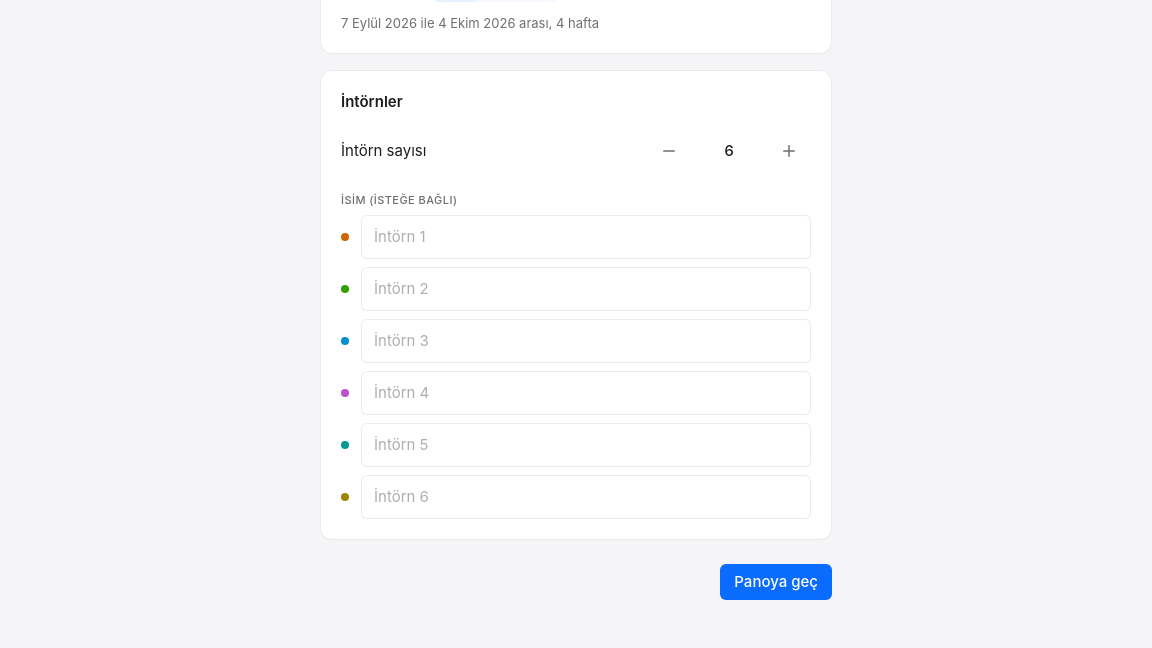
Test case: board › renders 56 slot zones with hour labels
This screenshot has width=1152, height=648.
(page scrolled)
Click the button "Panoya geç". click: (776, 582)
box: [720,564,832,600]
(page scrolled)
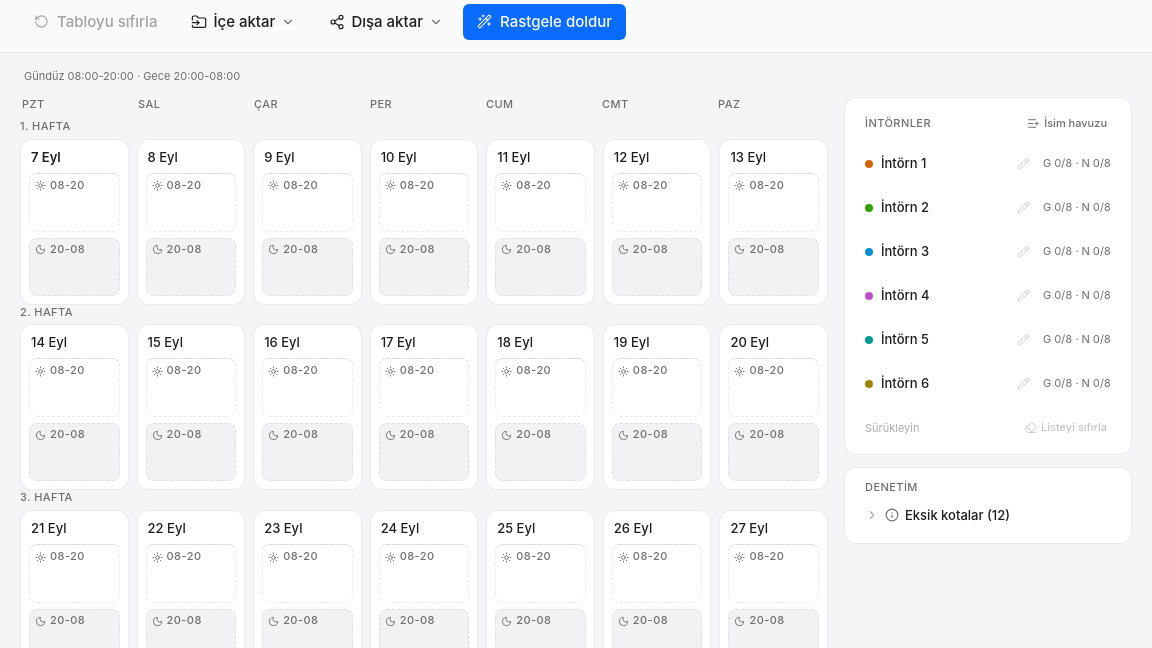
Expected: the number of elements named "gündüz nöbeti" is 28
Expected: the number of elements named "gece nöbeti" is 28
Expected: the text "08-20" is shown 28 times
